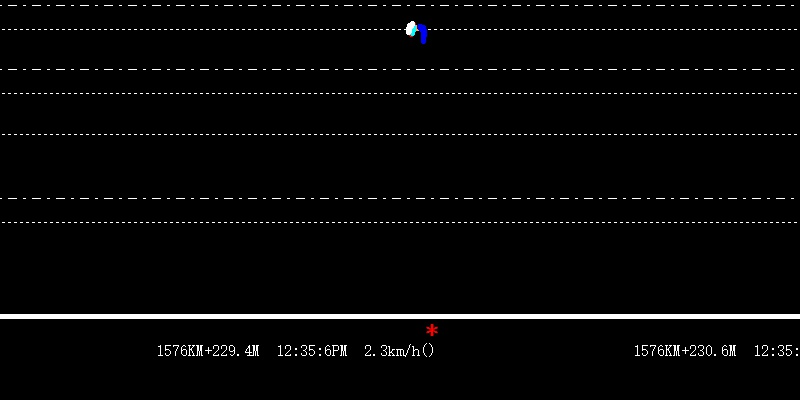face_2: (405, 19, 428, 47)
star: (422, 320, 441, 341)
